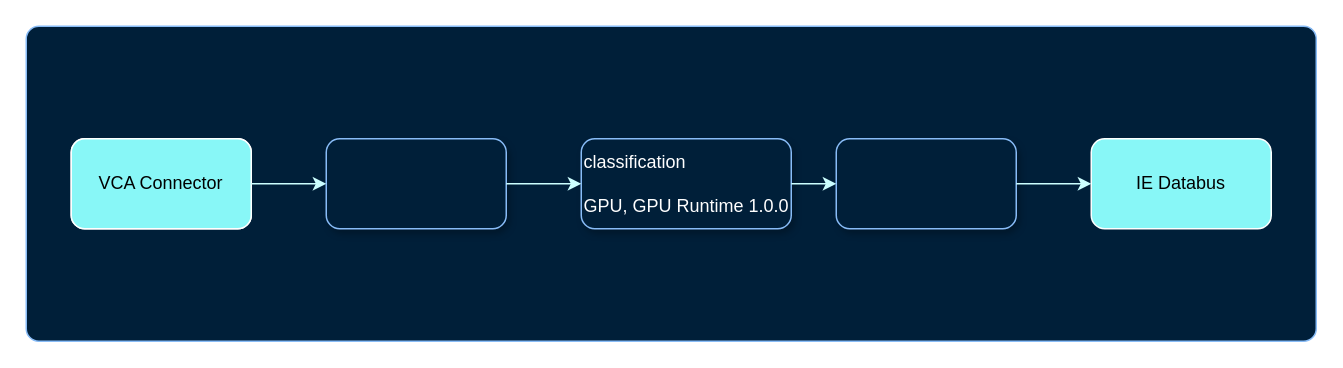
The diagram is 1343 pixels wide and 368 high, and some of its shapes have lost their labels. Each missing label, with the centre of its shape:
"postprocessing CPU, Python 3.12.10" belongs at (x=927, y=185).
"preprocessing CPU, Python 3.12.10" belongs at (x=417, y=185).
